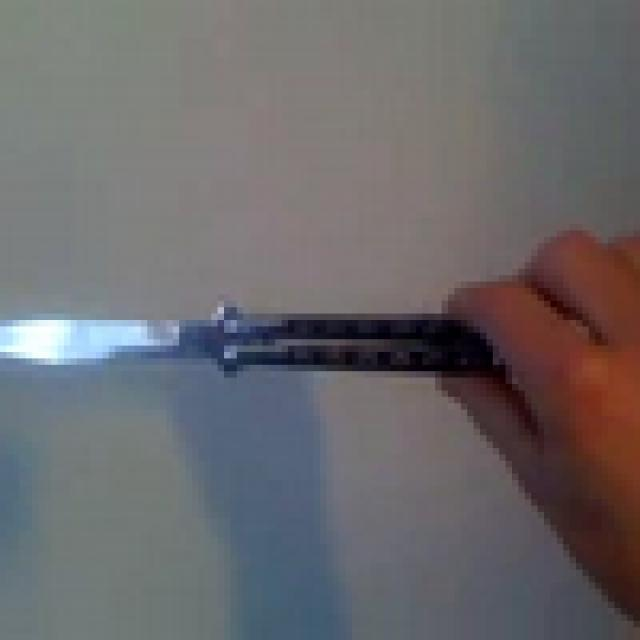knife: (0, 256, 531, 467)
